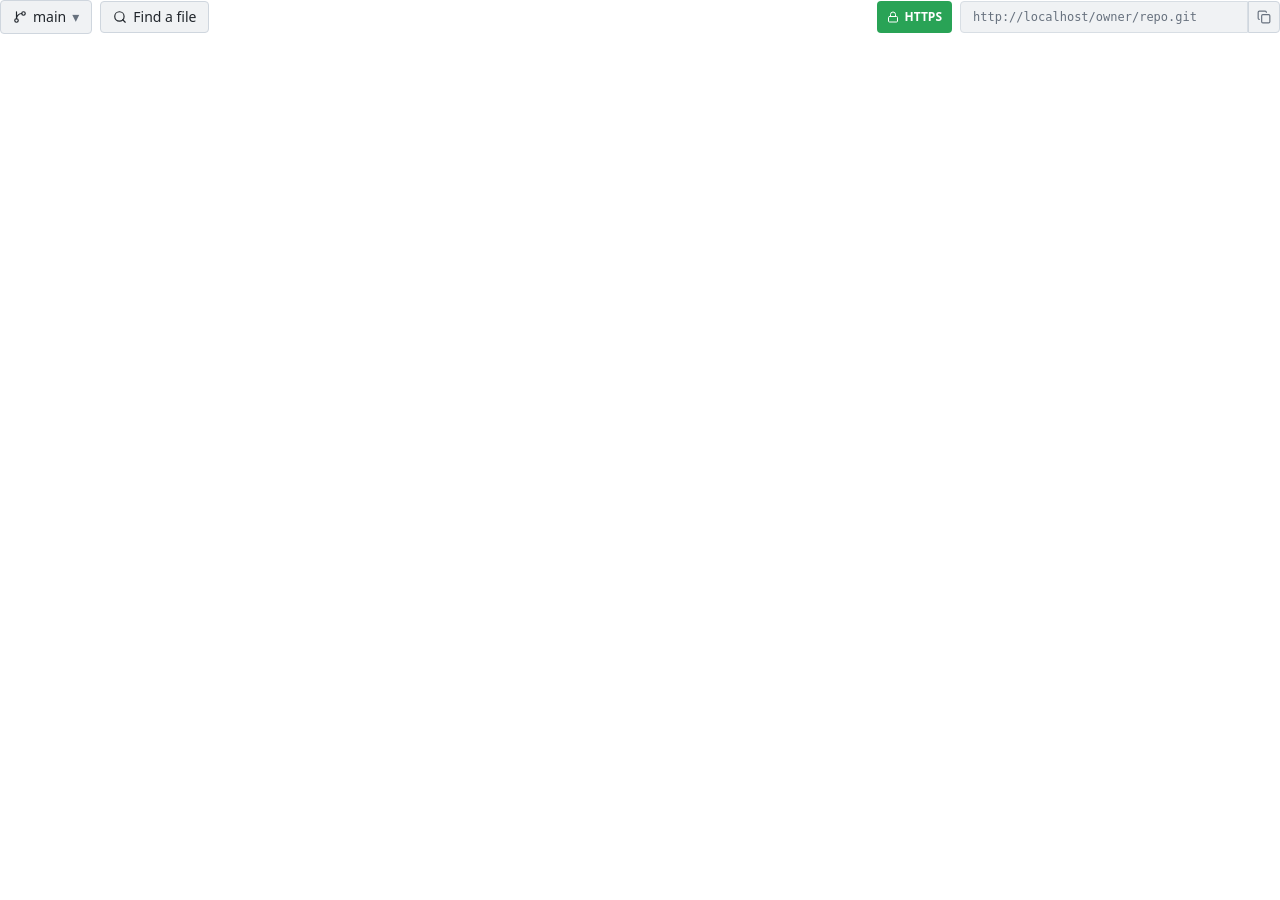
Test: RepoStats › retains navigation without displaying or requesting statistics in subdirectories
The width and height of the screenshot is (1280, 900).
Check: the text "branches" is not shown
Check: the field with test id "clone-url" is shown, box [960,1,1248,33]
Click the button with test id "branch-selector" at coordinates (46, 17), box [0,0,92,34]
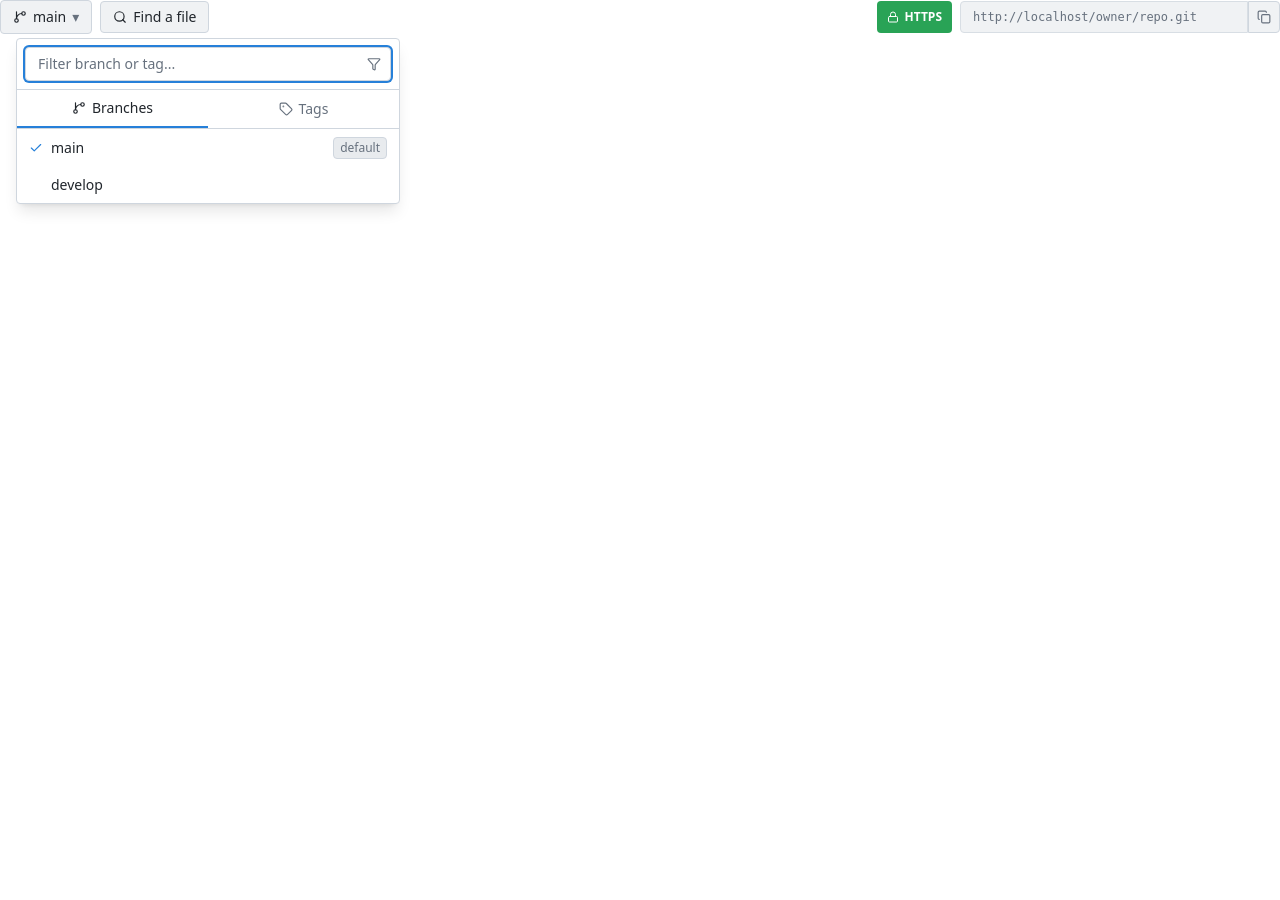
Check: the option with test id "branch-option-develop" is shown, box [17,167,399,203]
